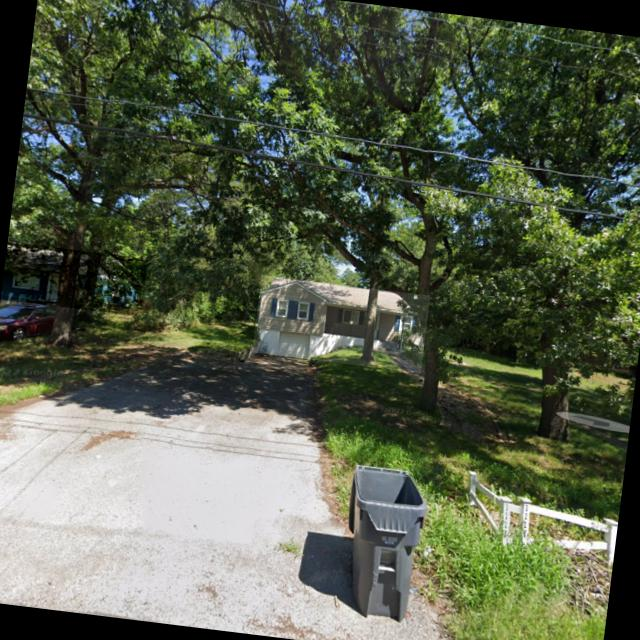House: (252, 274, 429, 372), (0, 242, 147, 316)
